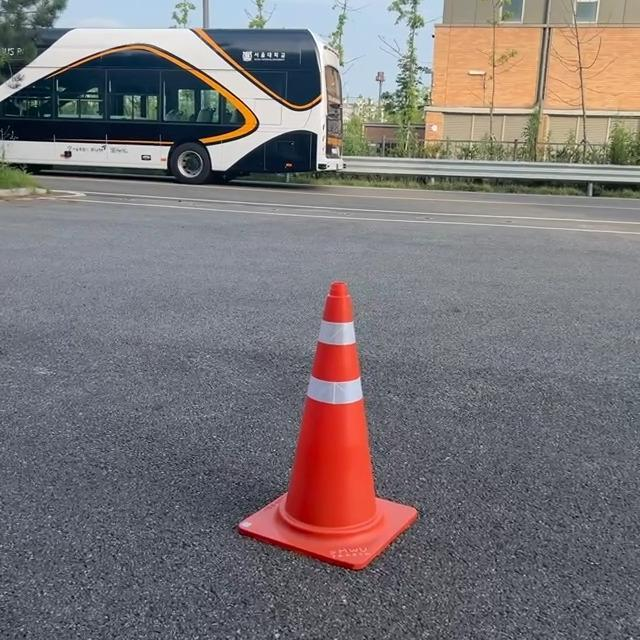fallen_object: (169, 260, 441, 621)
